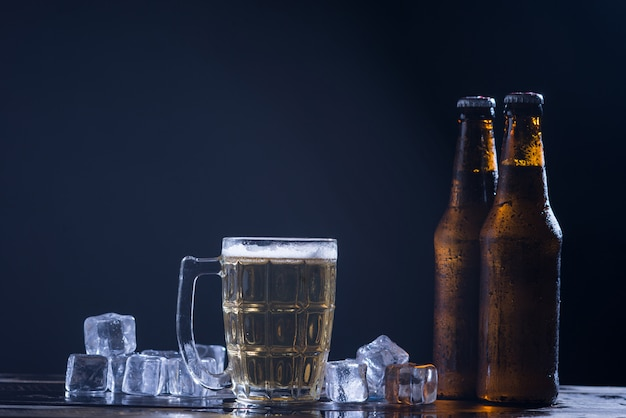alcohol: (175, 235, 339, 410), (483, 95, 564, 407), (436, 96, 513, 410)
